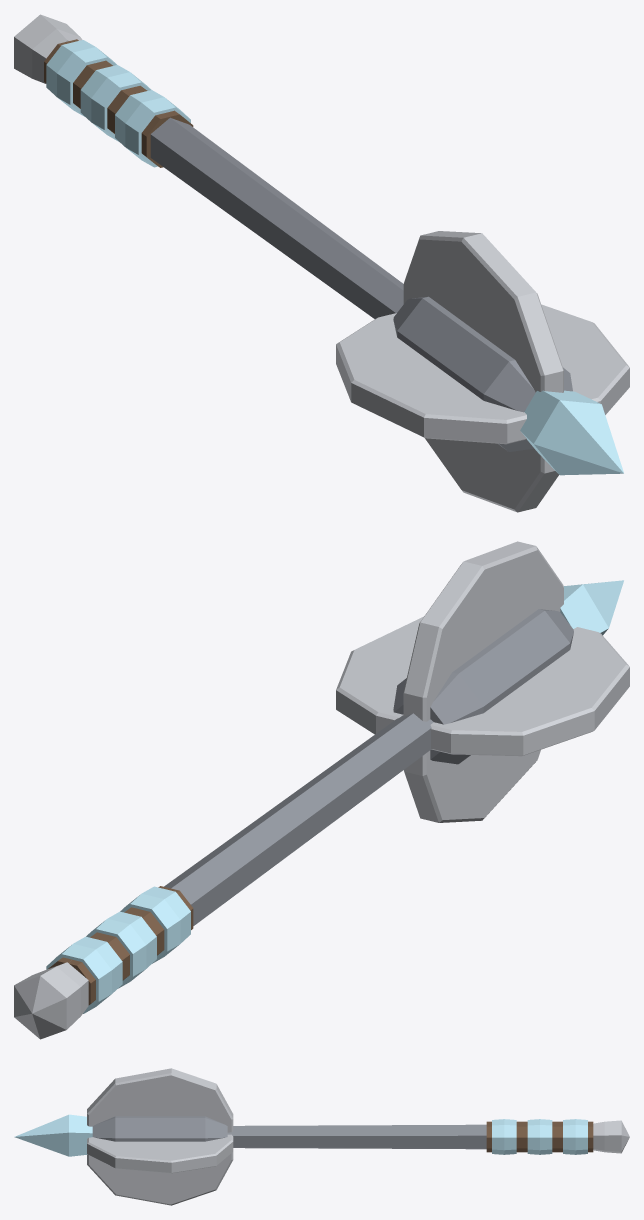
Rendered from sparkhead.glb.
3 views of the same model, one above another, from view 1: azimuth 30°, elevation 25°; view 2: azimuth 150°, elevation 25°; view 3: azimuth 270°, elevation 25° (orthographic). The views are drawn at different scales.
Visible parts, largest first — view 1: sparkhead; view 2: sparkhead; view 3: sparkhead.
Part boxes in pixels (bbox=[...]): sparkhead: bbox=[14, 14, 629, 512]; sparkhead: bbox=[14, 541, 629, 1039]; sparkhead: bbox=[14, 1068, 629, 1205].
Size of the model in its own units: 0.26 by 0.26 by 1.1.
